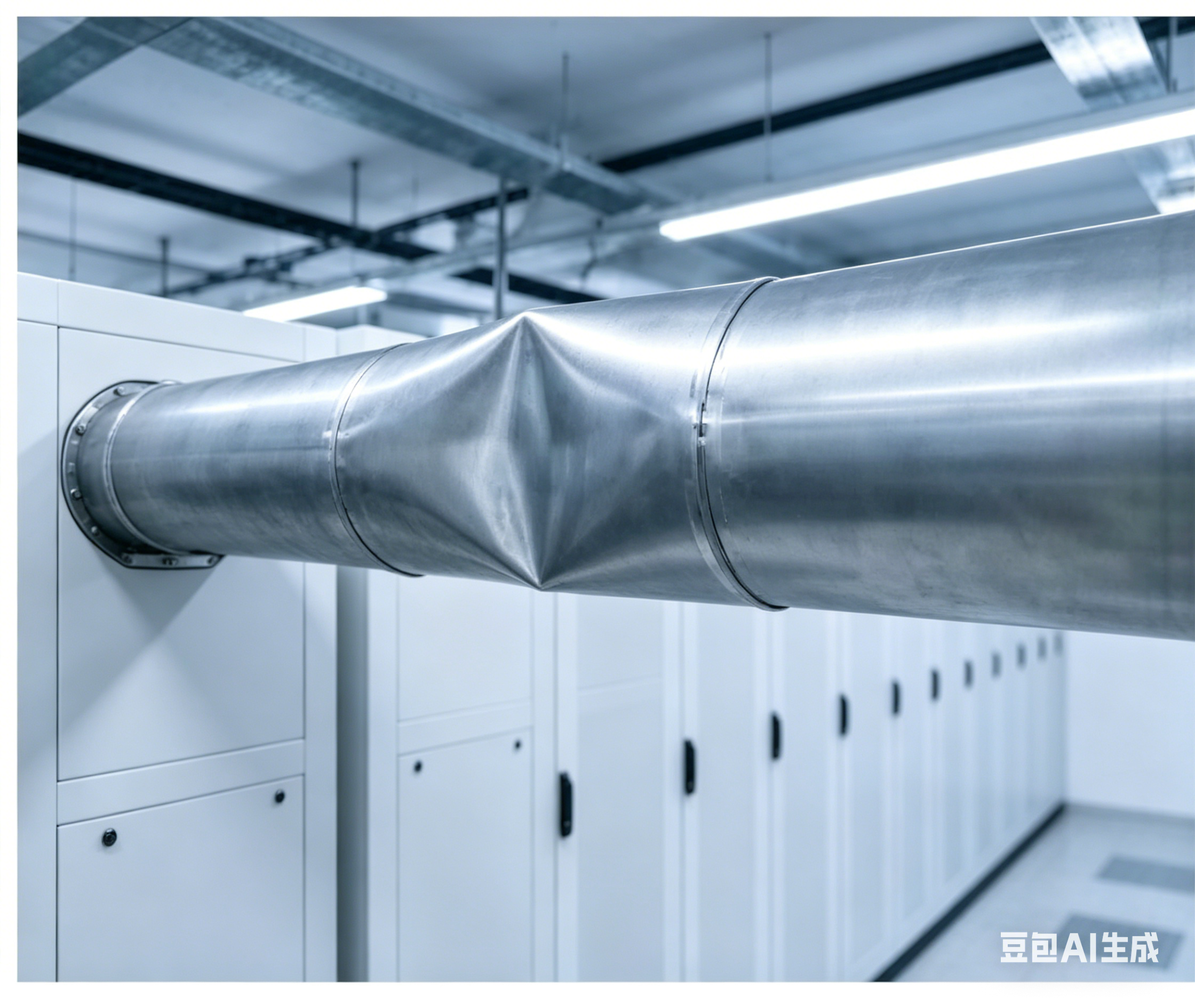Leakage: (402, 307, 650, 600)
